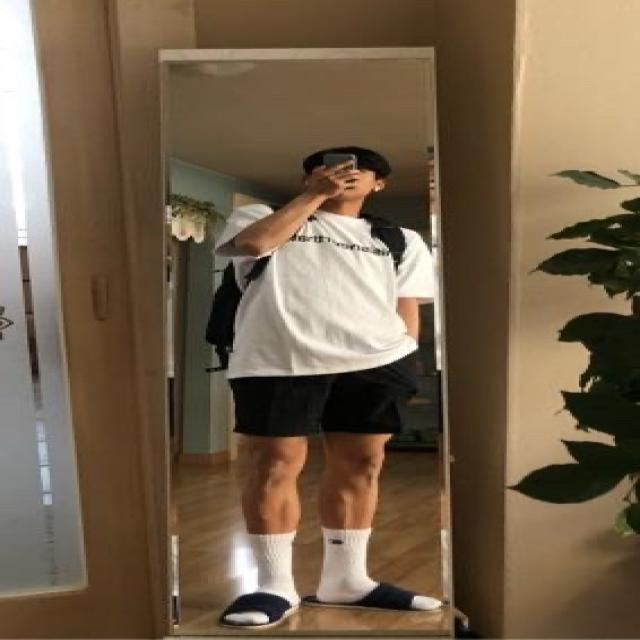shortpants: (228, 351, 407, 437)
shortsleeve: (218, 199, 433, 374)
